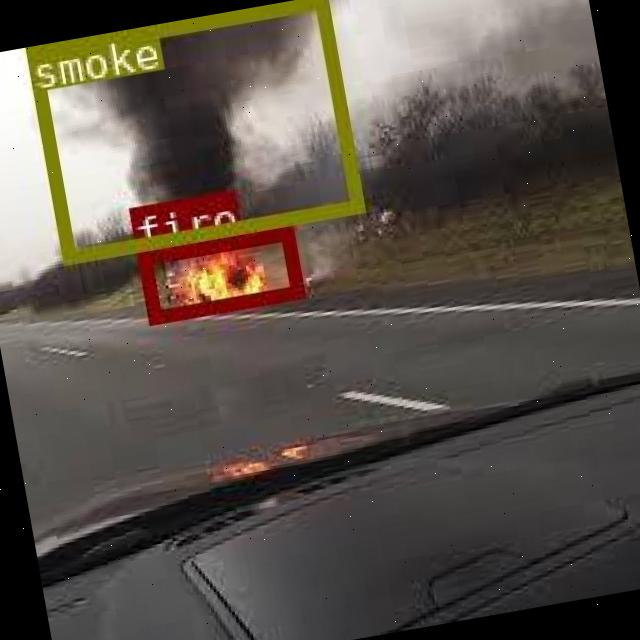fire: (134, 226, 302, 323)
smoke: (23, 0, 361, 260)
